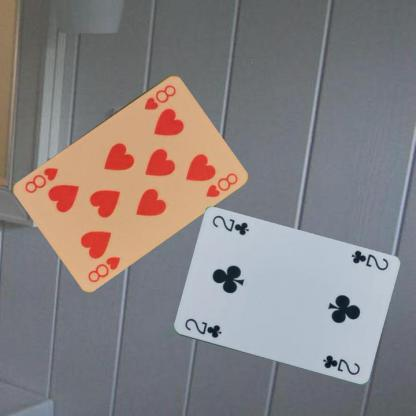2c: (348, 247, 389, 272), (182, 315, 222, 340)
8h: (85, 253, 122, 284), (142, 82, 178, 112)
